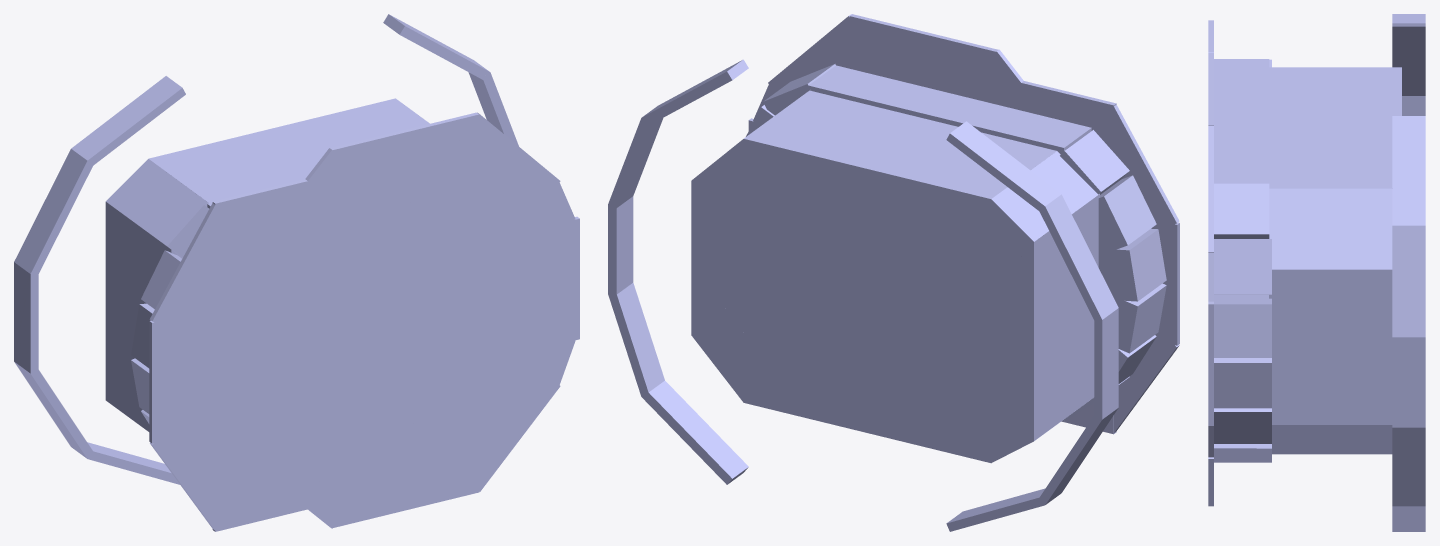
The model's file is mazebot_PioneerP3DX__135__.dae.
3 renders of one model, left to right at view 1: azimuth 30°, elevation 25°; view 2: azimuth 150°, elevation 25°; view 3: azimuth 270°, elevation 25°, orthographic.
Visible parts, largest first — view 1: Node_0x7ff5b0f65b50 (×26); view 2: Node_0x7ff5b0f65b50 (×30); view 3: Node_0x7ff5b0f65b50 (×24).
Part boxes in pixels (left/top/right/bottom): Node_0x7ff5b0f65b50 (×26): left=14, top=14, right=579, bottom=531; Node_0x7ff5b0f65b50 (×30): left=608, top=14, right=1179, bottom=531; Node_0x7ff5b0f65b50 (×24): left=1208, top=14, right=1425, bottom=531.
Size of the model in its own units: 0.2595 by 0.2075 by 0.0982.
